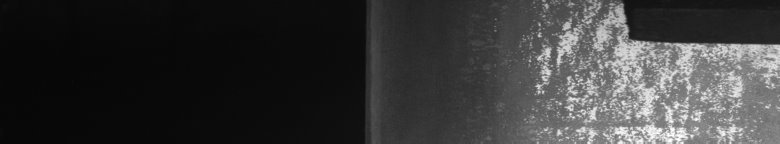kb: (494, 4, 776, 136)
